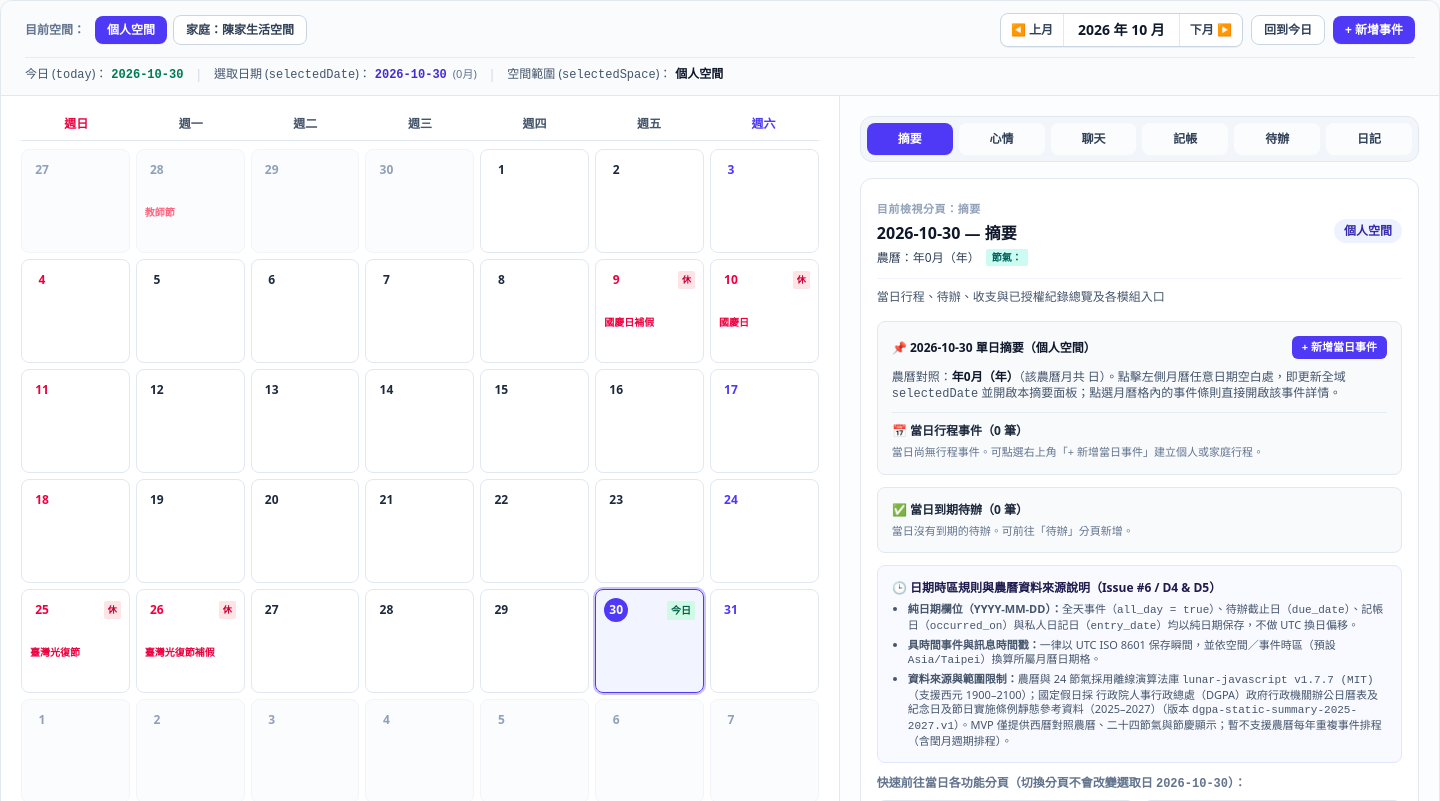
it: PR #25 Follow-up Fixes (Space Reset, Today Rollover, Personal-Only Diary Guard) › Follow-up #3: clicking Diary (personalOnly) in family space automatically routes back to personal space with a clear notice, and switching to family space leave
Switch to Family Space
Click the button with test id "space-switch-family-fam_01". click: {"x": 240, "y": 30}
box: [173, 15, 307, 45]
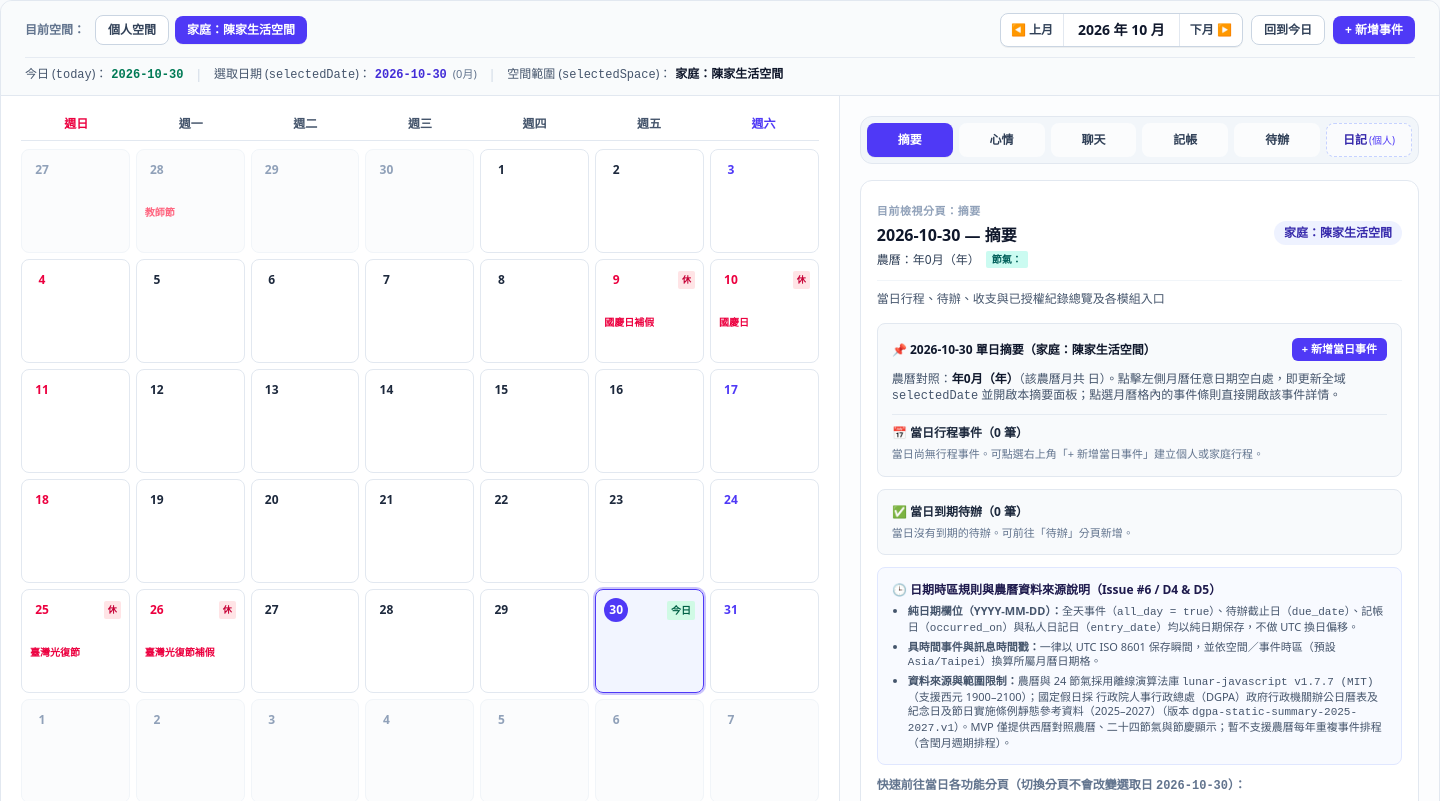
Now the text with test id "status-selected-space" reads "家庭：陳家生活空間", box [675, 65, 783, 82]
Now the text with test id "diary-tab-personal-only-badge" reads "(個人)", box [1369, 133, 1395, 147]
Click the tab with test id "right-tab-diary". click: {"x": 1369, "y": 140}
box: [1326, 123, 1412, 157]
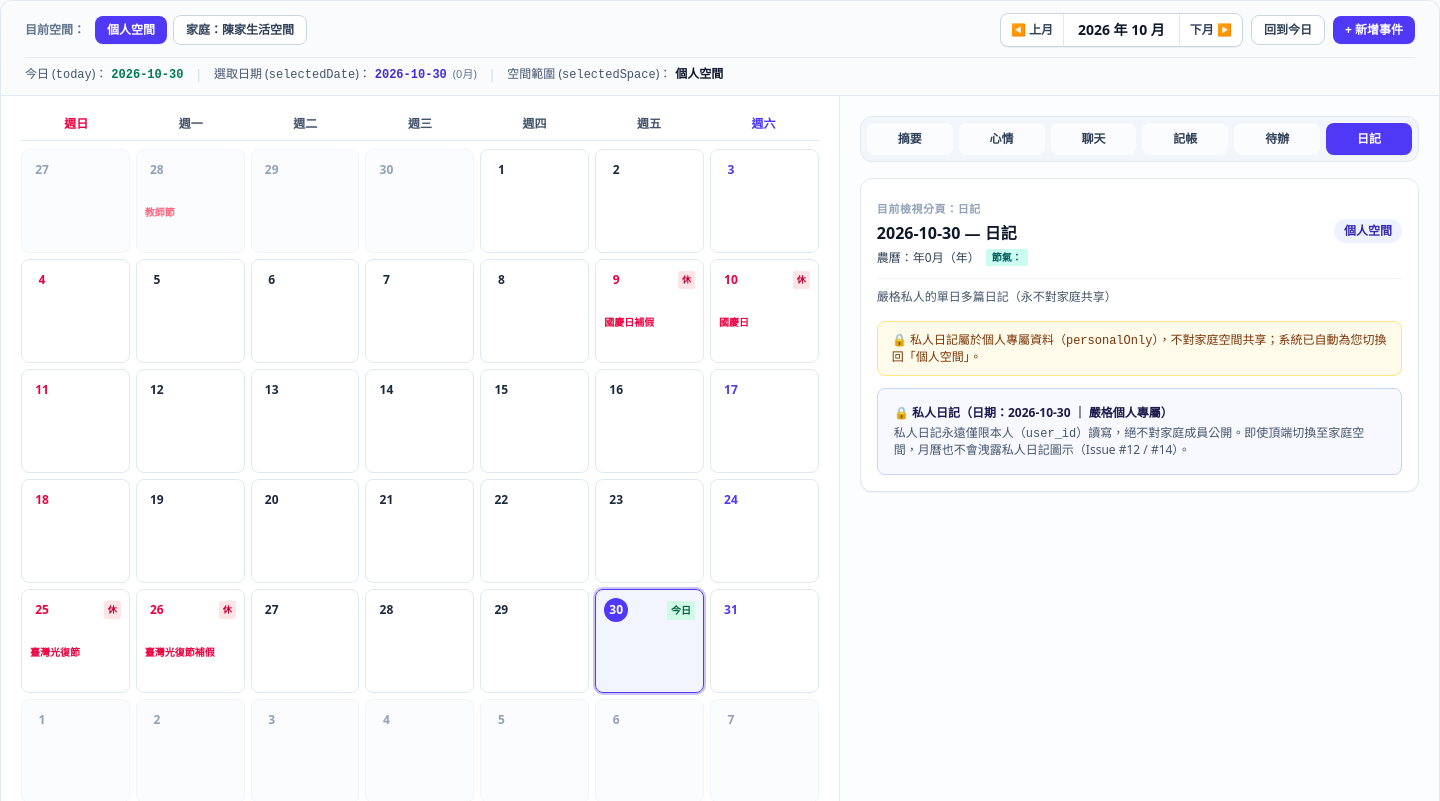
Now the text with test id "status-selected-space" reads "個人空間", box [675, 65, 723, 82]
Now the message with test id "diary-auto-switched-personal-notice" shows "已自動為您切換回「個人空間」", box [892, 331, 1386, 365]
Now while on Diary tab, switching to Family Space automatically returns activeTab to 'summary'
Click the button with test id "space-switch-family-fam_01". click: {"x": 240, "y": 30}
box: [173, 15, 307, 45]
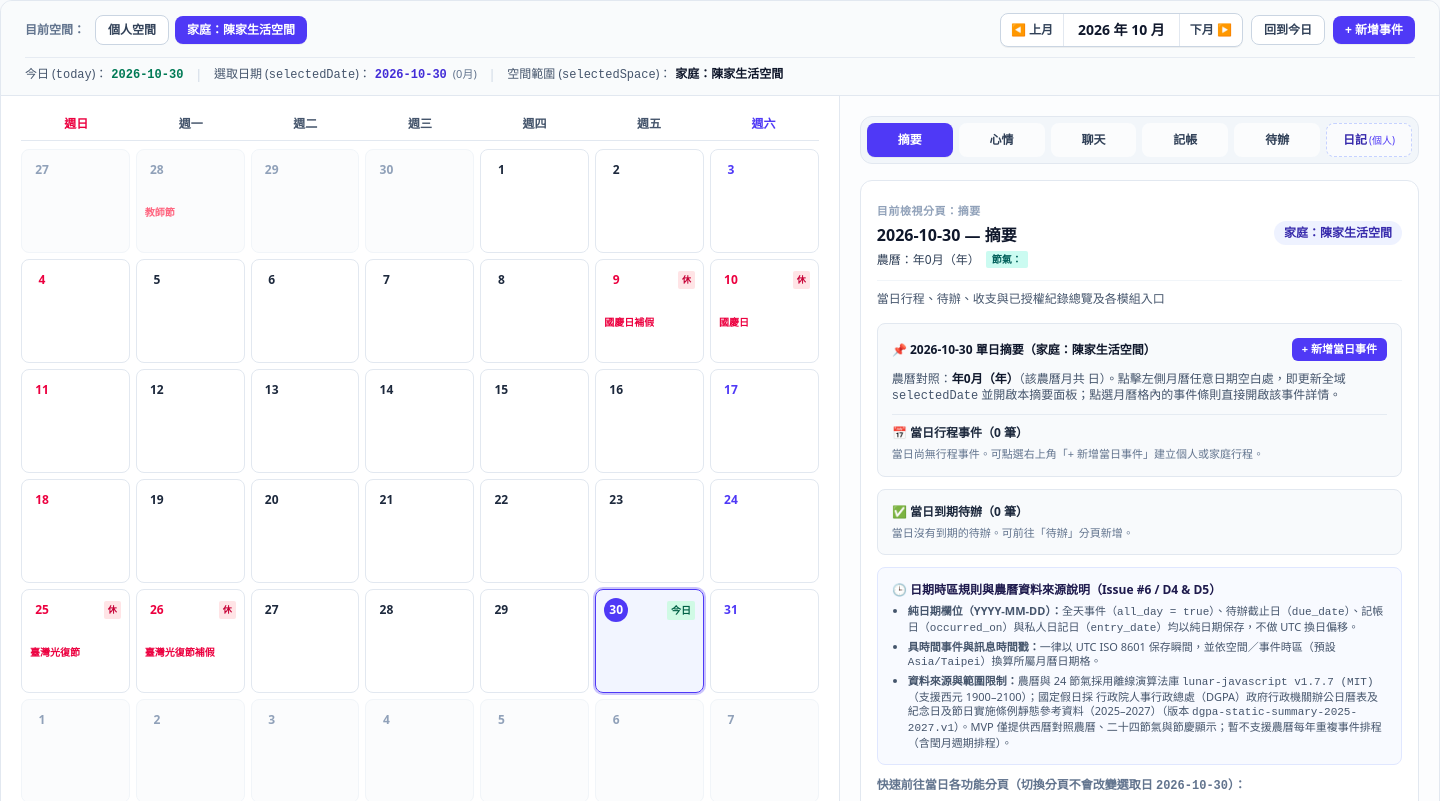
Now the text with test id "status-selected-space" reads "家庭：陳家生活空間", box [675, 65, 783, 82]
